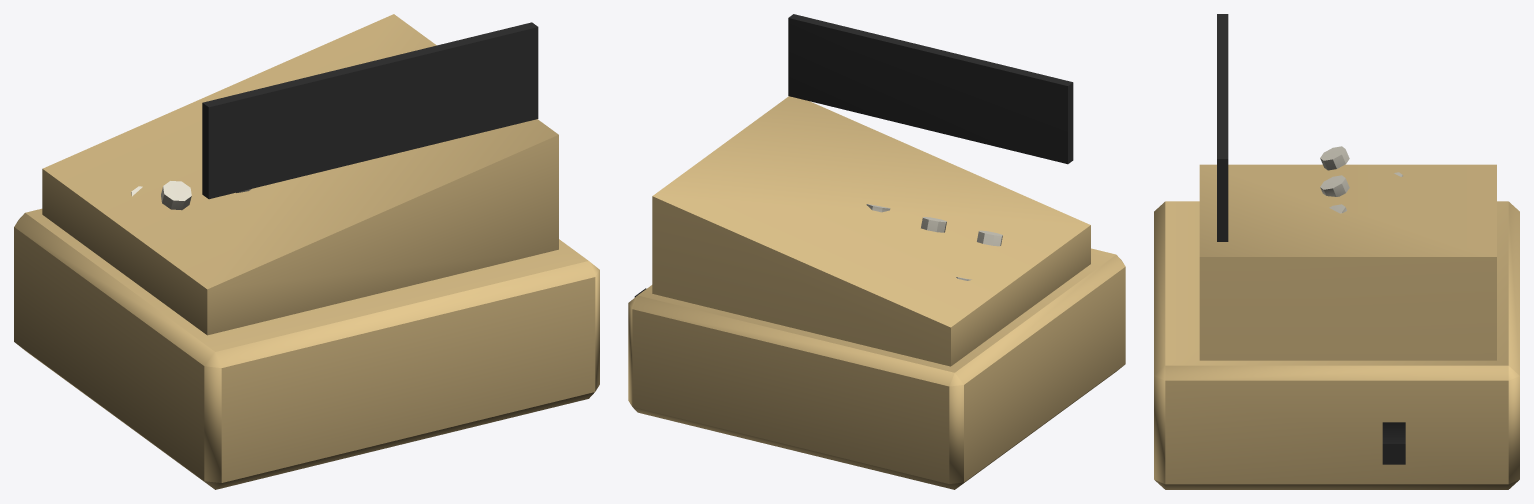
File: till.glb
3 views of the same model, side by side, from view 1: azimuth 30°, elevation 25°; view 2: azimuth 150°, elevation 25°; view 3: azimuth 270°, elevation 25° (orthographic). The views are drawn at different scales.
Parts seen in each view (by area): view 1: static; view 2: static; view 3: static.
Boxes of the visible parts, x1,y1,x2,y2 form: static: [14, 14, 599, 489]; static: [628, 14, 1125, 489]; static: [1154, 14, 1519, 489].
Bounding box in the file's own units: 0.405 × 0.31 × 0.32.
